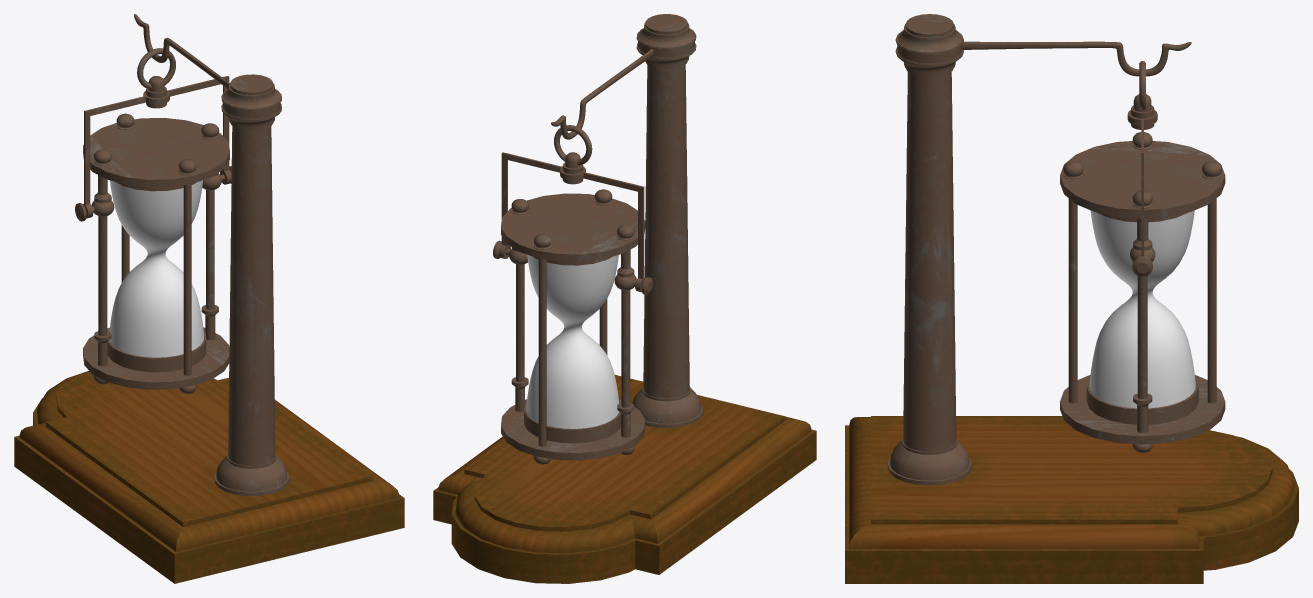
File: hourglass1.fbx
The picture shows the model from 3 angles, left to right: view 1: azimuth 30°, elevation 25°; view 2: azimuth 150°, elevation 25°; view 3: azimuth 270°, elevation 25°; orthographic projection. The views are drawn at different scales.
Visible parts, largest first — view 1: Stand, Hourglass, Railing, Grips; view 2: Stand, Hourglass, Railing, Grips; view 3: Stand, Hourglass, Railing.
Part boxes in pixels (bbox=[...]): Stand: bbox=[14, 14, 404, 583]; Hourglass: bbox=[83, 113, 229, 393]; Railing: bbox=[83, 48, 231, 218]; Grips: bbox=[75, 166, 231, 221]; Stand: bbox=[433, 14, 816, 583]; Hourglass: bbox=[501, 189, 645, 464]; Railing: bbox=[498, 125, 645, 292]; Grips: bbox=[493, 240, 652, 295]; Stand: bbox=[845, 14, 1298, 583]; Hourglass: bbox=[1060, 132, 1225, 452]; Railing: bbox=[1127, 61, 1157, 259].
Bounding box in the file's own units: 11.52 × 17.6 × 21.27.
5 materials, 4 textured.
